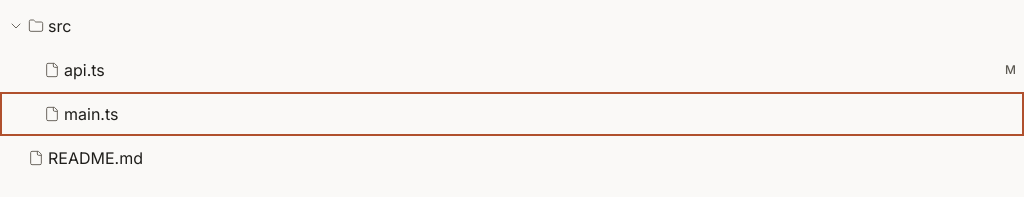
Test: ExplorerTree › opens a file with Enter and a click, and toggles a folder
This screenshot has width=1024, height=197.
Press Enter
Click the list item "README.md": (86, 158) [28,148,143,168]
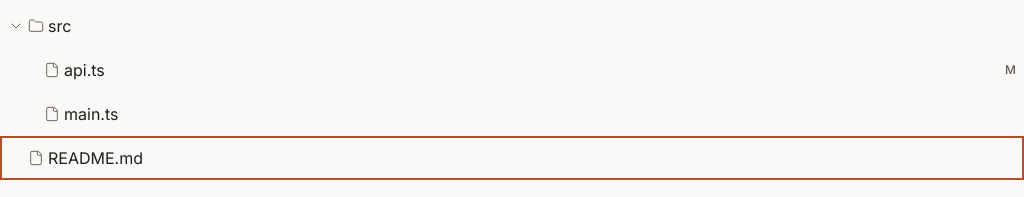
Click the list item "src": (40, 26) [8,16,71,36]
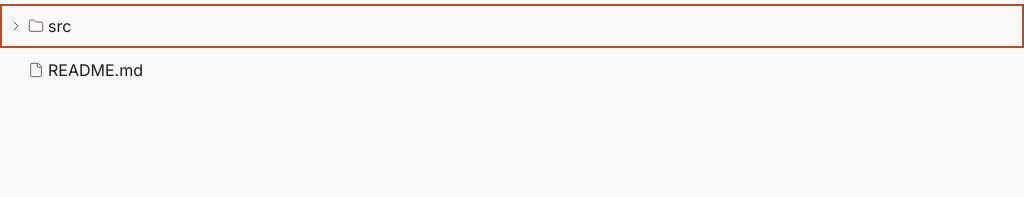
Now the text "api.ts" is gone
